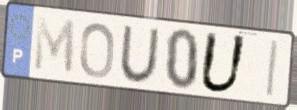0: (161, 27, 202, 92)
I: (264, 38, 282, 100)
M: (32, 14, 76, 78)
O: (78, 20, 117, 80)
U: (196, 29, 250, 96), (118, 24, 162, 85)
